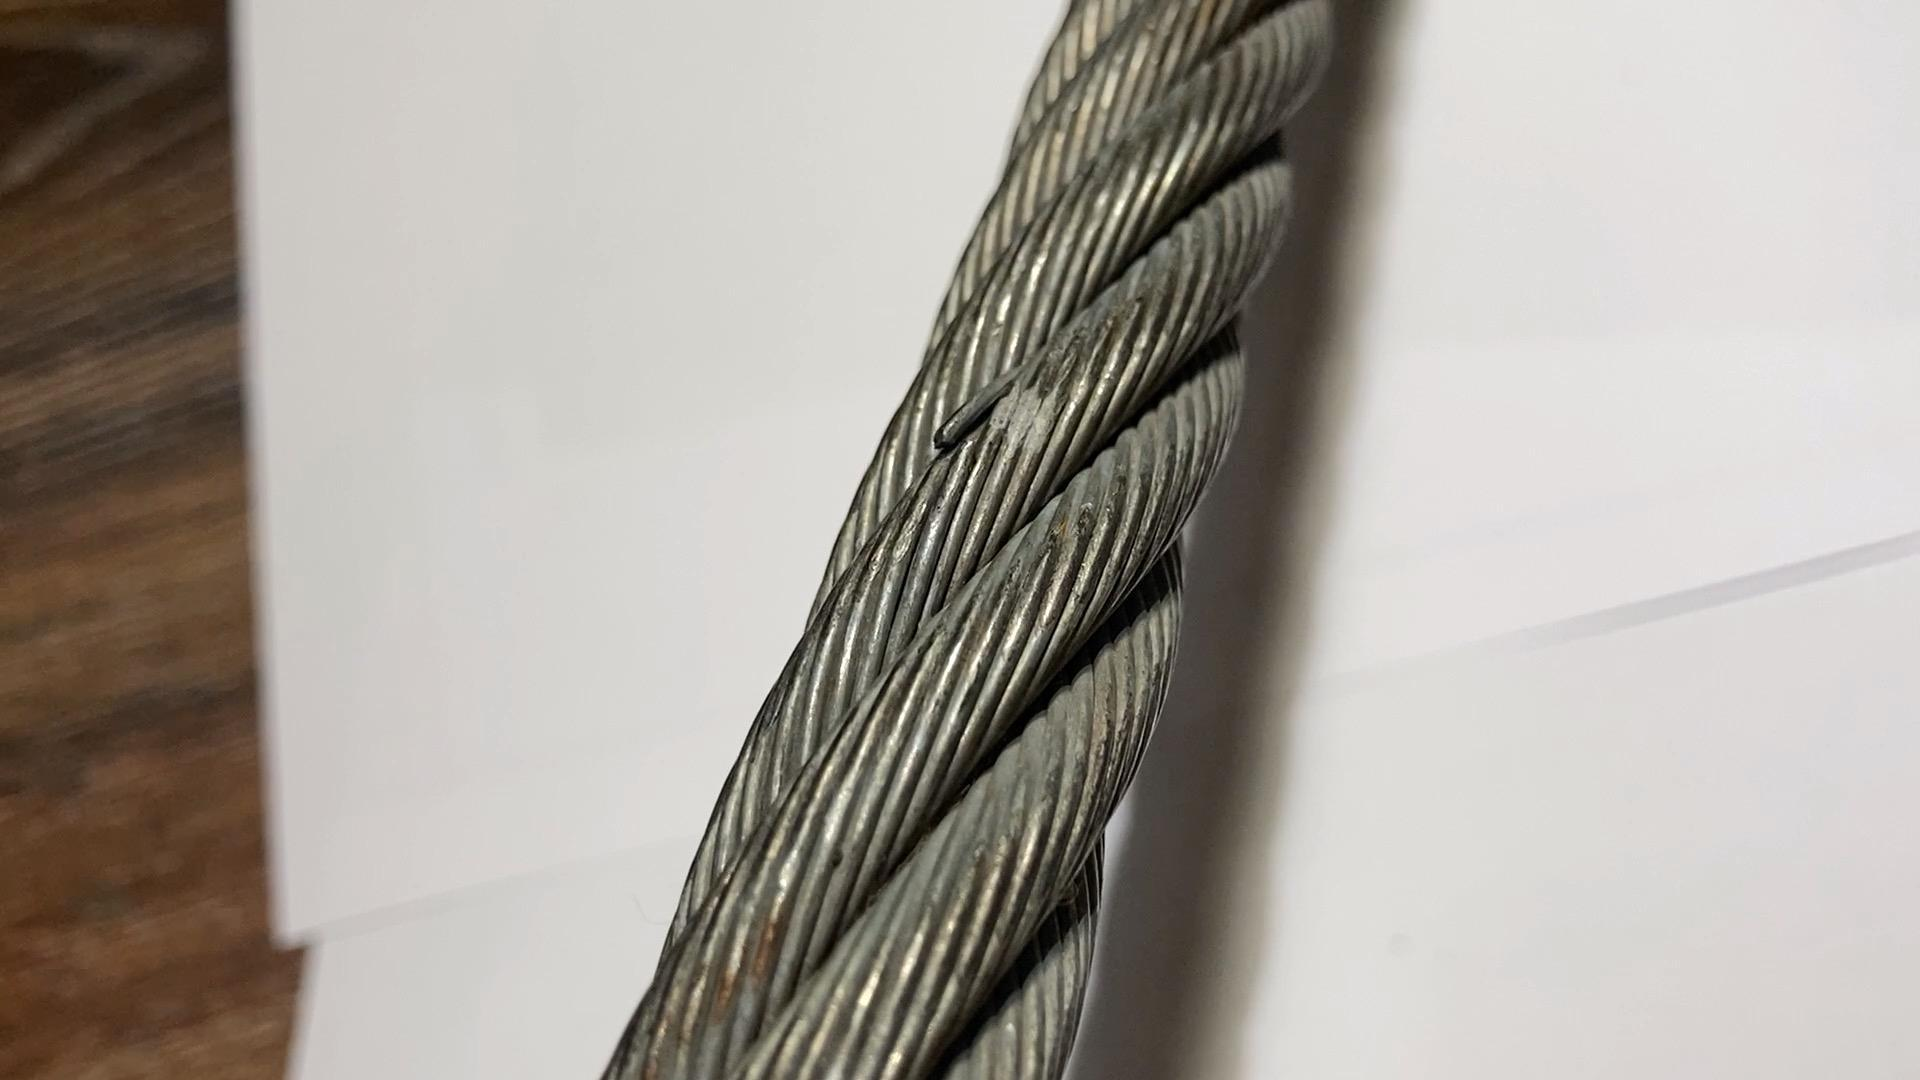break: (924, 360, 1038, 454)
